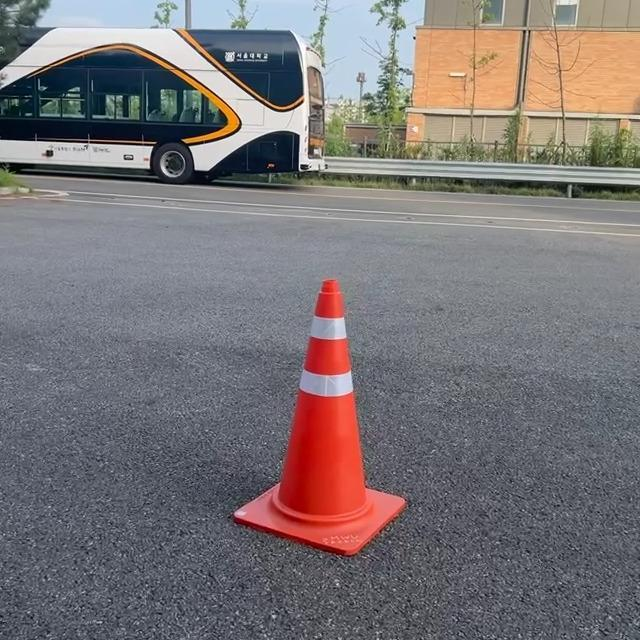fallen_object: (186, 263, 434, 576)
